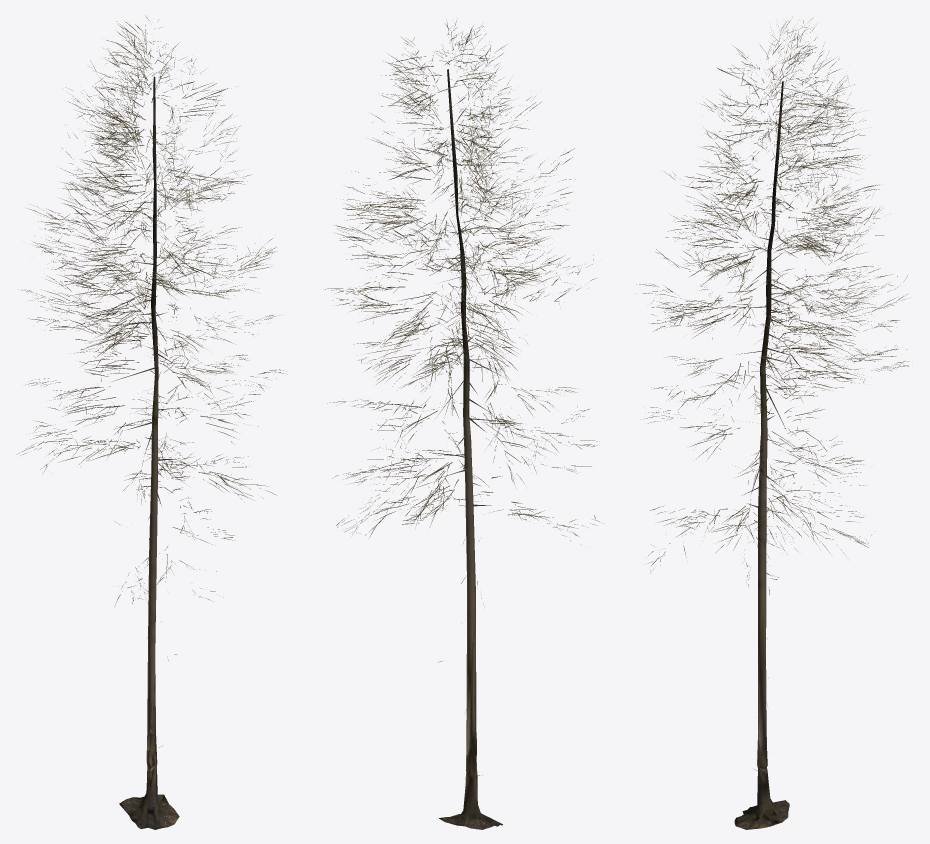
Rendered from fir_tree_01.glb.
The picture shows the model from 3 angles, left to right: view 1: azimuth 30°, elevation 25°; view 2: azimuth 150°, elevation 25°; view 3: azimuth 270°, elevation 25°; orthographic projection. The views are drawn at different scales.
Parts seen in each view (by area): view 1: fir_tree_01_a_LOD0; view 2: fir_tree_01_a_LOD0; view 3: fir_tree_01_a_LOD0.
Boxes of the visible parts, box(x1,y1,x2,y2) form: fir_tree_01_a_LOD0: box(20, 15, 286, 829); fir_tree_01_a_LOD0: box(325, 20, 599, 829); fir_tree_01_a_LOD0: box(636, 17, 908, 829).
Size of the model in its own units: 6.4 by 18.82 by 5.99.
Materials: 4 (4 with a texture image).
